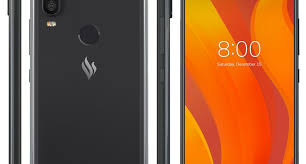vsmart: (28, 1, 147, 164), (182, 1, 301, 164)
